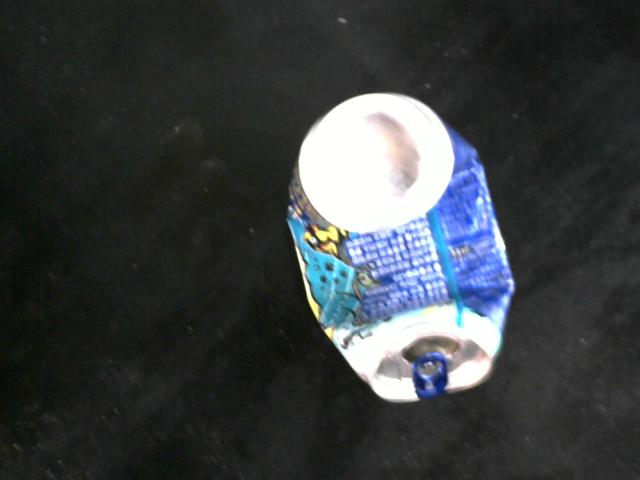can: (281, 90, 515, 401)
